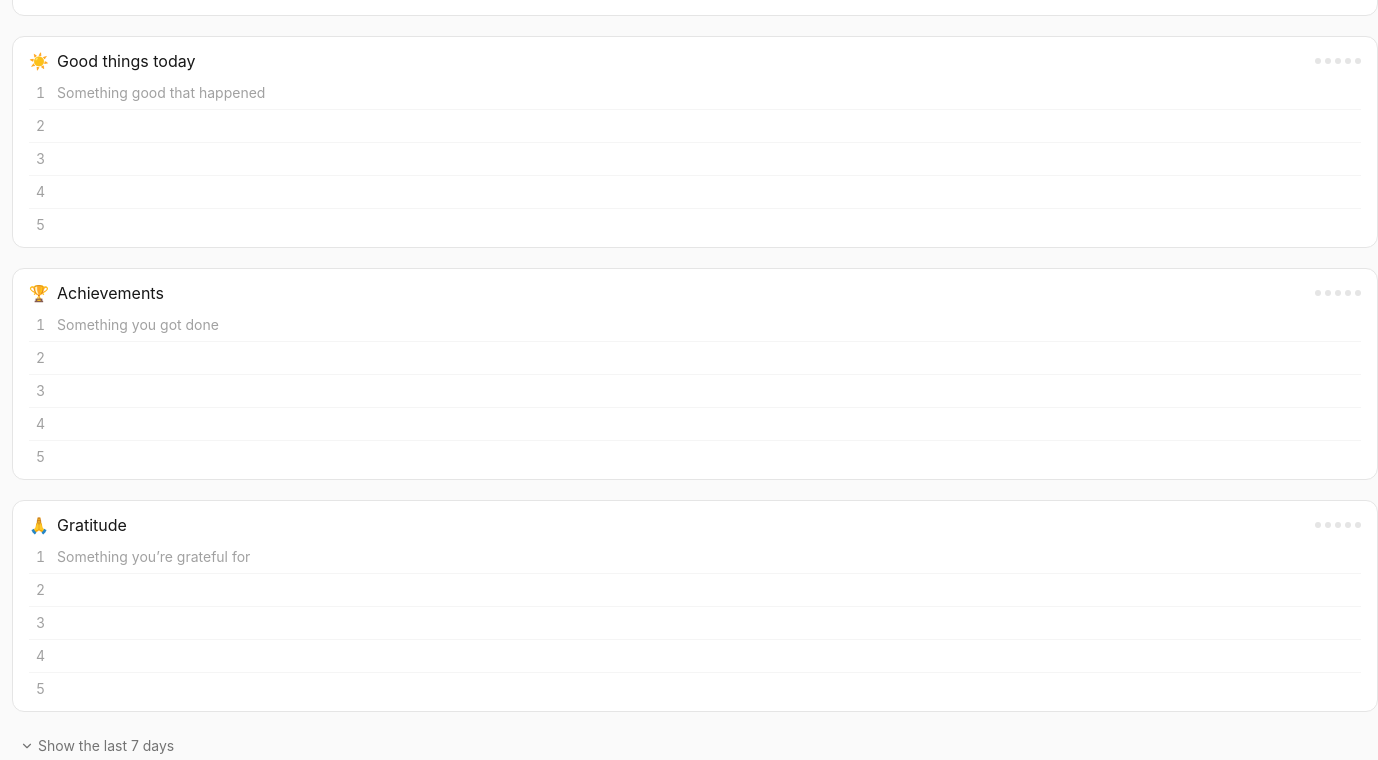
Test: JournalPage › says so when nothing was written in the week gone by (JRN-6)
The image size is (1378, 760).
(page scrolled)
Click the button "Show the last 7 days": click(97, 746) [12, 732, 182, 759]
(page scrolled)
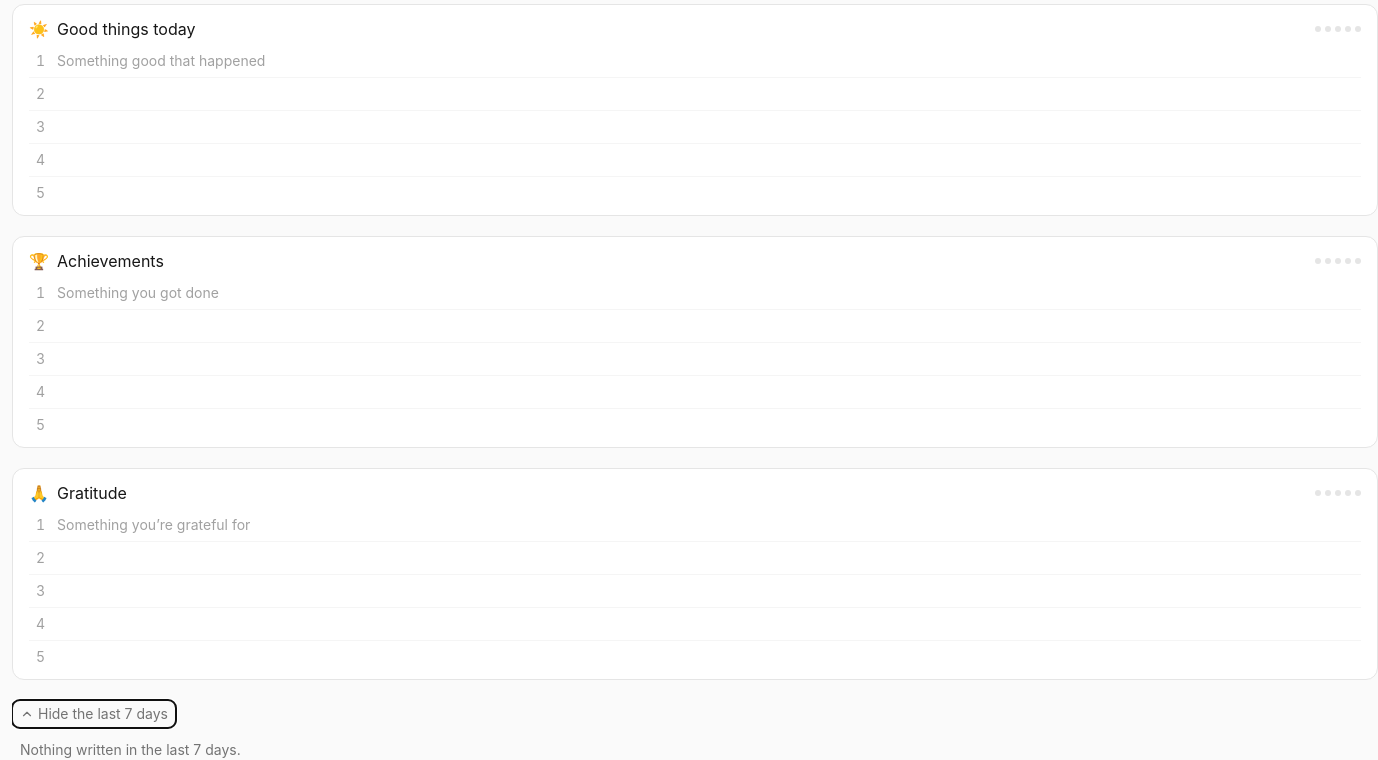
Expected: the text "Nothing written in the last 7 days." is shown, [20, 741, 241, 758]
